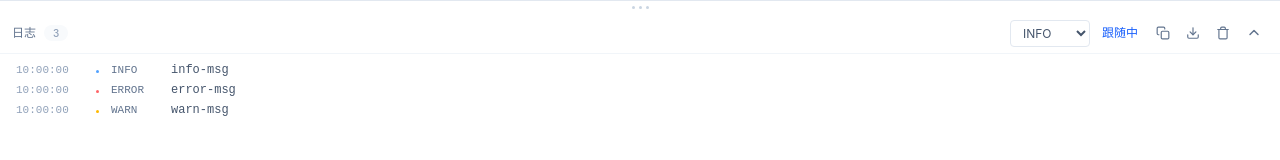
Test case: LogPanel › filters logs by level
Note: Filter to ERROR only
Select "ERROR" in the dropdown showing "INFO": (1050, 33) [1010,20,1090,46]
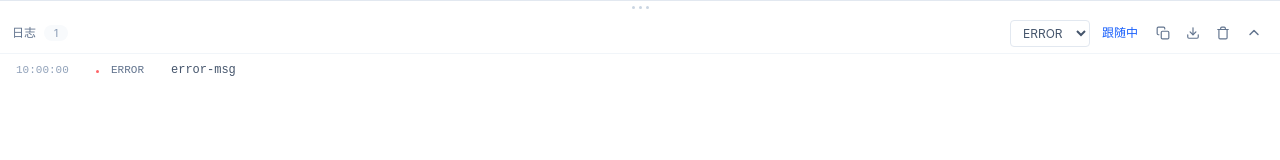
Expected: the text "error-msg" is shown, [171,62,236,78]
Expected: the text "info-msg" is gone
Expected: the text "warn-msg" is gone
